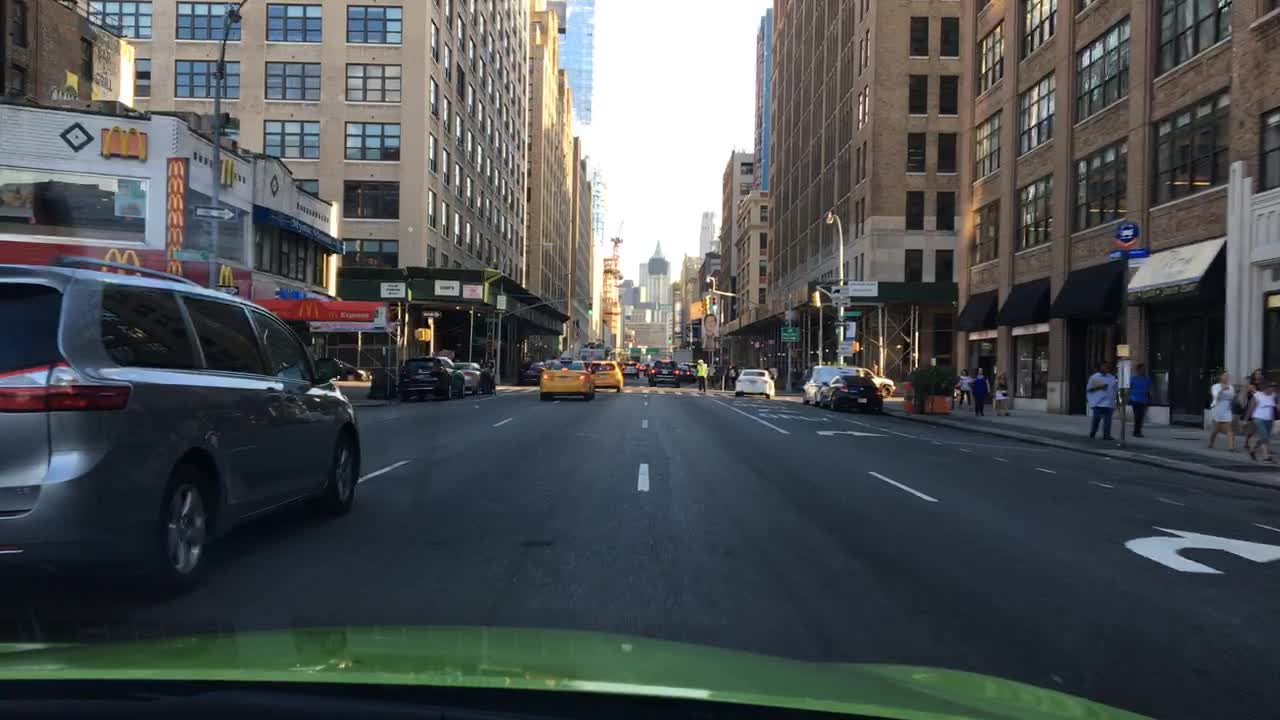car: (1, 249, 362, 595), (537, 349, 595, 400), (814, 370, 883, 412), (798, 361, 861, 406), (401, 355, 449, 397), (732, 362, 774, 398), (433, 354, 466, 398), (851, 365, 895, 397), (584, 357, 624, 391), (319, 357, 371, 380), (645, 355, 681, 388), (452, 360, 483, 392), (517, 359, 547, 385), (618, 358, 640, 379), (578, 346, 606, 362), (673, 360, 693, 381), (671, 347, 693, 362), (542, 358, 557, 369)
person: (1238, 366, 1277, 463), (1082, 359, 1119, 440), (1205, 368, 1240, 452), (1122, 360, 1154, 436), (1237, 368, 1262, 447), (964, 365, 990, 416), (990, 369, 1010, 416), (954, 366, 974, 408), (481, 354, 498, 392), (693, 357, 706, 390), (716, 359, 727, 391), (799, 362, 810, 391), (787, 362, 797, 392), (725, 364, 736, 390), (705, 360, 715, 387), (870, 357, 883, 375)
traffic light: (416, 326, 432, 341), (810, 290, 821, 308), (705, 294, 716, 310), (851, 340, 863, 352), (586, 298, 594, 314)
traffic sign: (192, 204, 237, 222), (848, 278, 879, 296), (779, 324, 799, 342), (836, 339, 852, 358), (213, 283, 238, 295), (419, 308, 443, 320), (842, 318, 855, 339), (830, 283, 849, 296), (831, 296, 850, 307), (827, 317, 850, 326), (628, 345, 643, 358), (494, 291, 505, 308), (644, 345, 662, 355), (842, 308, 861, 317), (493, 307, 505, 312)
